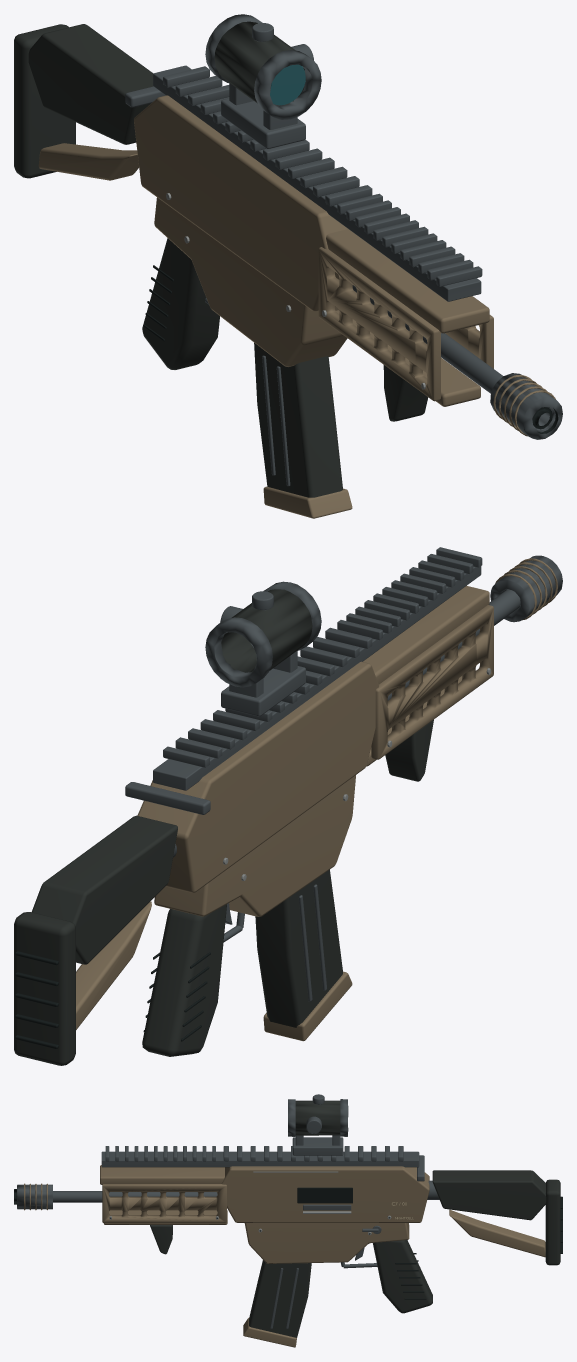
Rendered from carbine.glb.
The picture shows the model from 3 angles, top to bottom: view 1: azimuth 30°, elevation 25°; view 2: azimuth 150°, elevation 25°; view 3: azimuth 270°, elevation 25°; orthographic projection. The views are drawn at different scales.
Parts seen in each view (by area): view 1: carbine_nc7_coating, carbine_nc7_polymer, carbine_nc7_alloy, carbine_nc7_lens, carbine_nc7_dark; view 2: carbine_nc7_coating, carbine_nc7_polymer, carbine_nc7_alloy, carbine_nc7_dark; view 3: carbine_nc7_coating, carbine_nc7_polymer, carbine_nc7_alloy, carbine_nc7_dark, carbine_nc7_edge.
Part boxes in pixels (<box>): carbine_nc7_coating: <box>38,95,555,518</box>; carbine_nc7_polymer: <box>14,21,428,497</box>; carbine_nc7_alloy: <box>125,14,562,486</box>; carbine_nc7_lens: <box>270,64,305,105</box>; carbine_nc7_dark: <box>143,265,558,433</box>; carbine_nc7_coating: <box>76,558,557,1041</box>; carbine_nc7_polymer: <box>14,589,433,1065</box>; carbine_nc7_alloy: <box>125,547,562,1001</box>; carbine_nc7_dark: <box>15,951,210,1048</box>; carbine_nc7_coating: <box>24,1165,545,1347</box>; carbine_nc7_polymer: <box>150,1100,560,1337</box>; carbine_nc7_alloy: <box>17,1094,439,1328</box>; carbine_nc7_dark: <box>14,1187,562,1299</box>; carbine_nc7_edge: <box>109,1171,391,1235</box>.
Bounding box in the file's own units: 0.0765 × 0.4145 × 0.8382.
